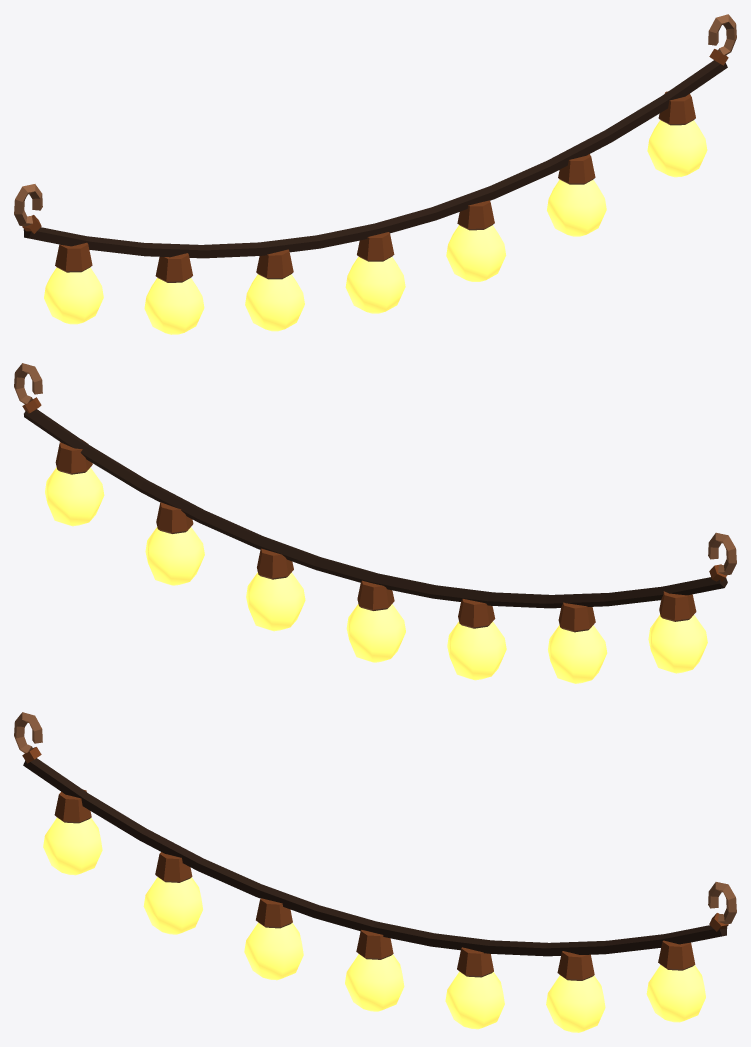
Rendered from StringLights.glb.
The picture shows the model from 3 angles, top to bottom: view 1: azimuth 30°, elevation 25°; view 2: azimuth 150°, elevation 25°; view 3: azimuth 330°, elevation 25°; orthographic projection.
Parts seen in each view (by area): view 1: StringLights; view 2: StringLights; view 3: StringLights.
Boxes of the visible parts, bbox=[...] form: StringLights: bbox=[14, 14, 736, 334]; StringLights: bbox=[14, 363, 736, 683]; StringLights: bbox=[14, 712, 736, 1032].
Size of the model in its own units: 2.01 by 0.5596 by 0.1426.
Materials: 1 (1 with a texture image).
